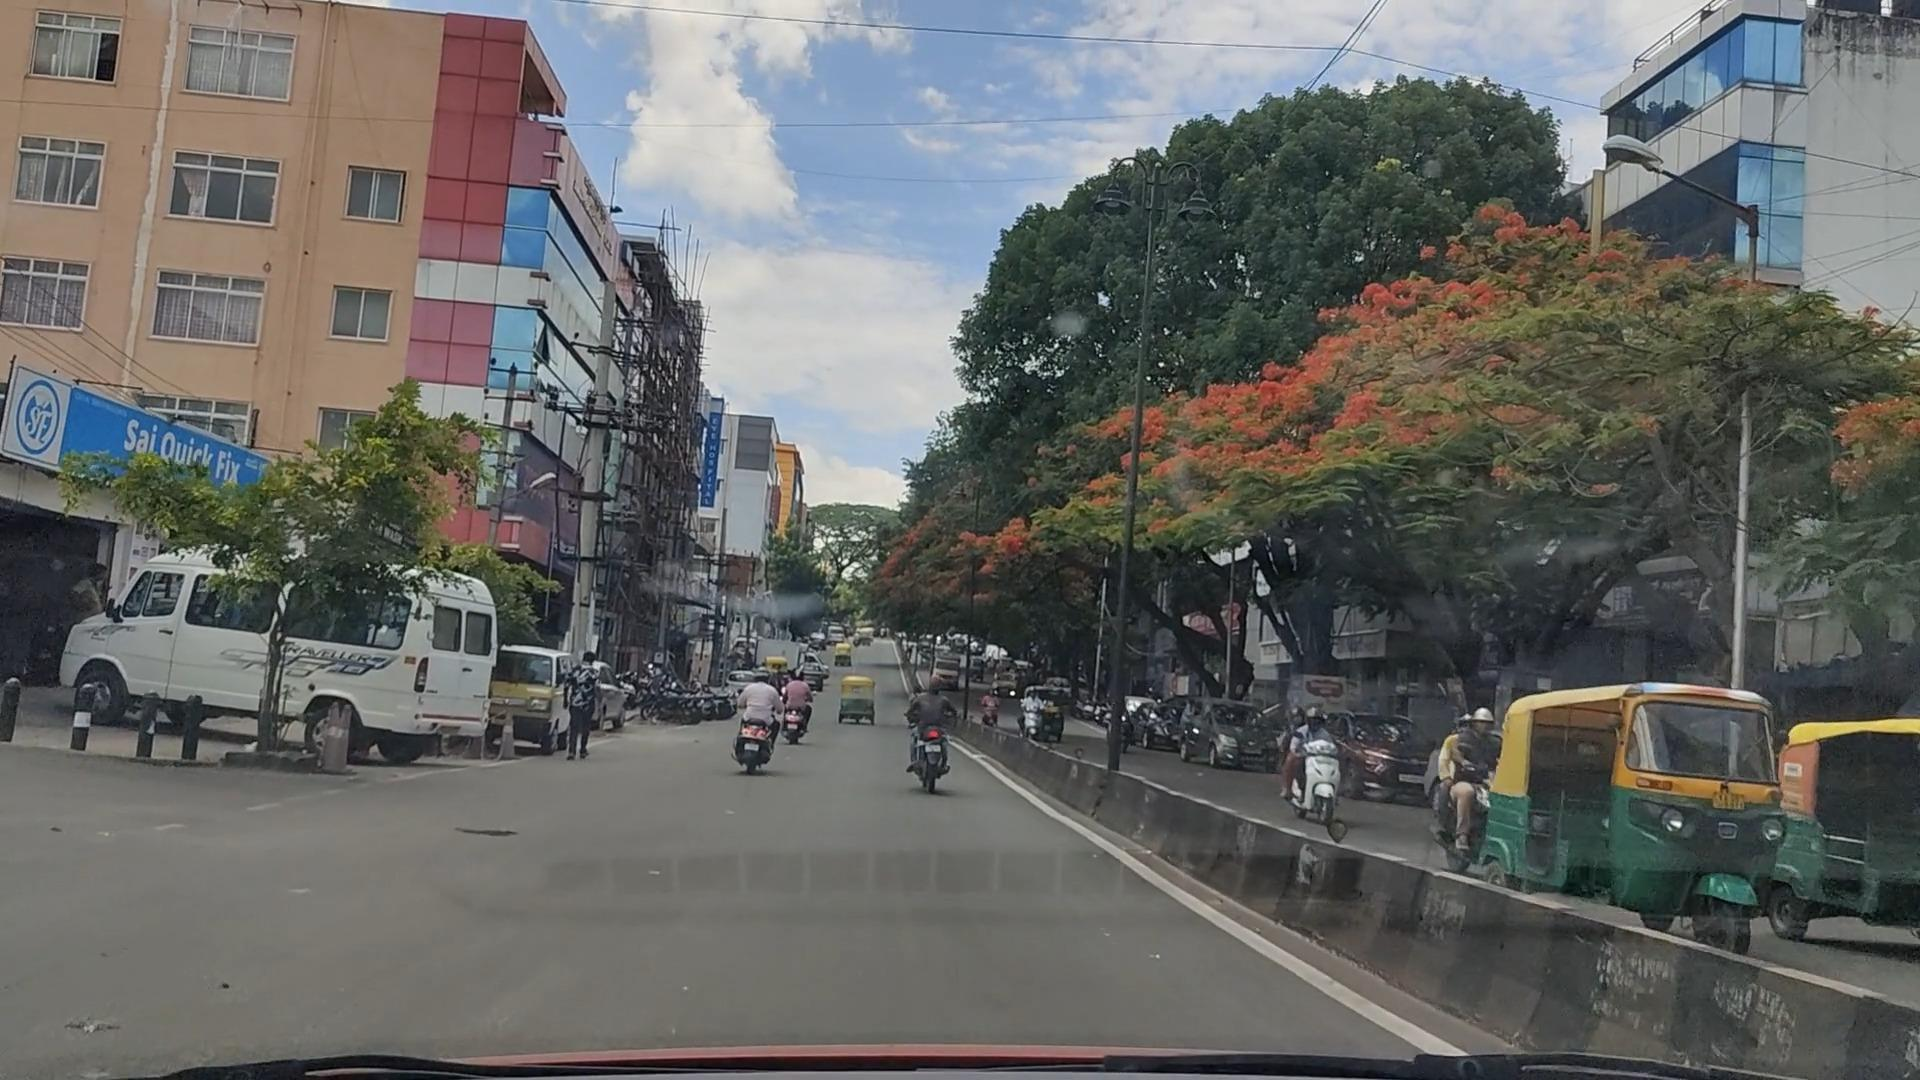LMV: (694, 658, 806, 769), (918, 698, 963, 812)
